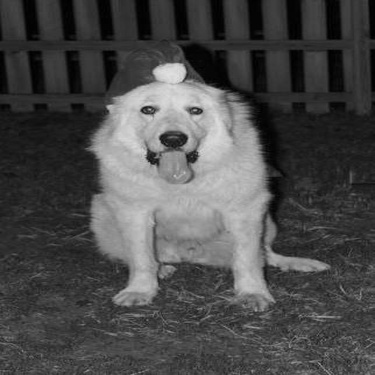dog: (35, 28, 343, 324)
